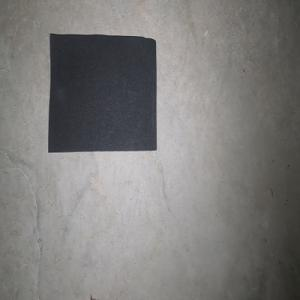PaintChip: (47, 33, 156, 152)
